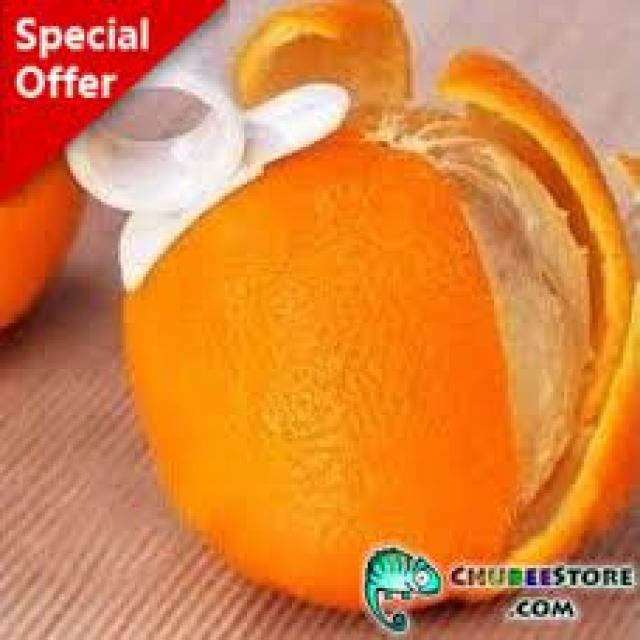Organik: (122, 5, 640, 604)
